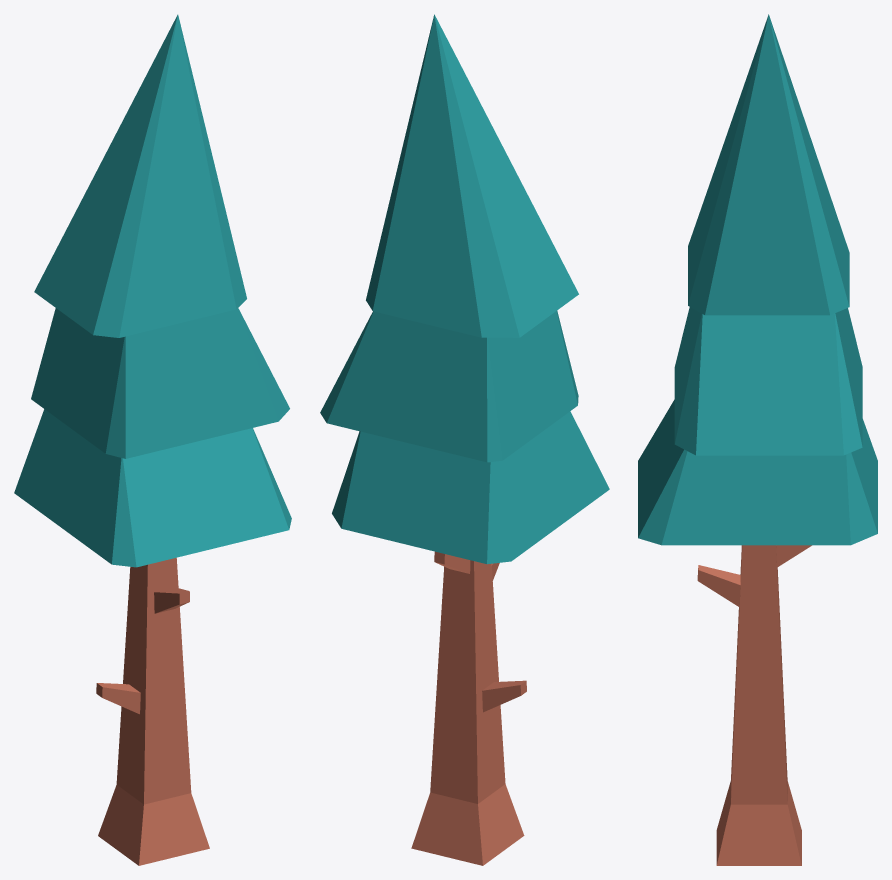
Rendered from tree-pine-tall-a-detailed.glb.
The picture shows the model from 3 angles, left to right: view 1: azimuth 30°, elevation 25°; view 2: azimuth 150°, elevation 25°; view 3: azimuth 270°, elevation 25°; orthographic projection. The views are drawn at different scales.
Parts seen in each view (by area): view 1: tree_pineTallA_detailed; view 2: tree_pineTallA_detailed; view 3: tree_pineTallA_detailed.
Boxes of the visible parts, x1=… form: tree_pineTallA_detailed: x1=14, y1=14, x2=291, y2=865; tree_pineTallA_detailed: x1=320, y1=14, x2=609, y2=865; tree_pineTallA_detailed: x1=638, y1=14, x2=877, y2=865.
Size of the model in its own units: 0.3863 by 1.53 by 0.392.
